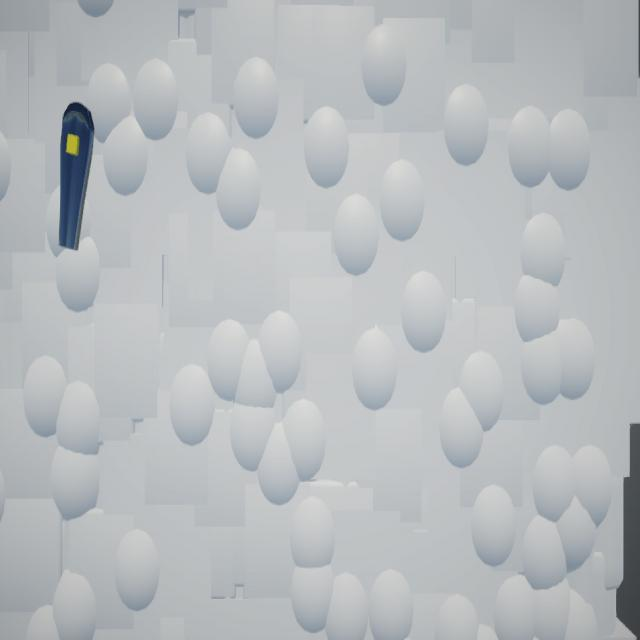handle_knife: (59, 103, 96, 252)
